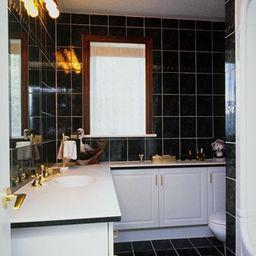Lavamanos: (25, 153, 101, 196)
Sanitario: (206, 210, 225, 254)
